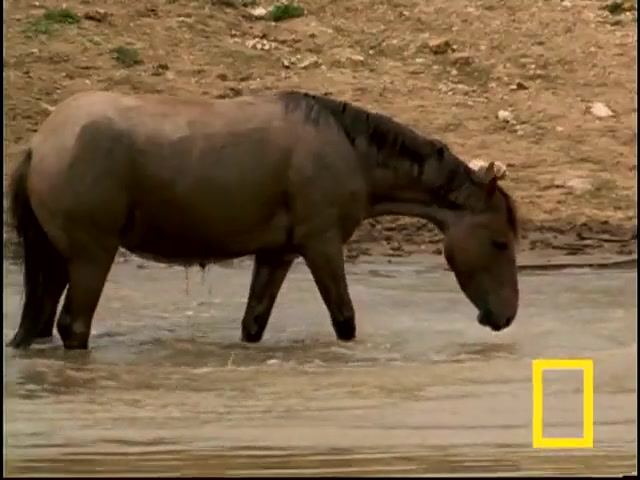horse: (11, 86, 525, 354)
